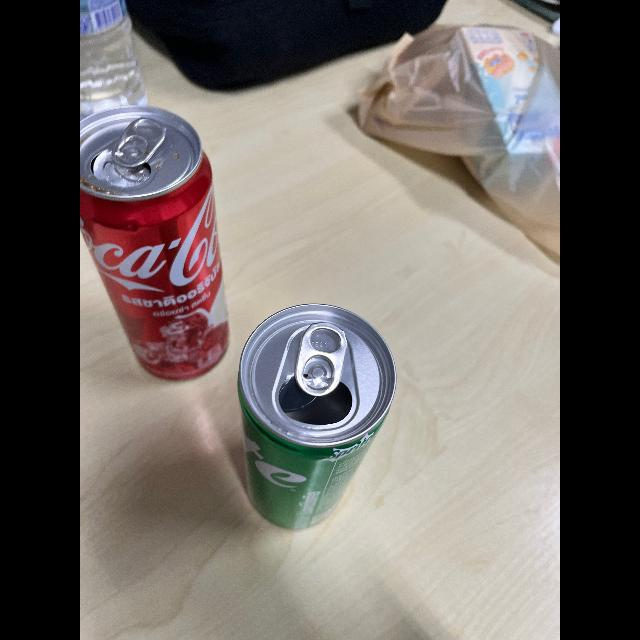can: (80, 100, 234, 396), (233, 290, 399, 556)
